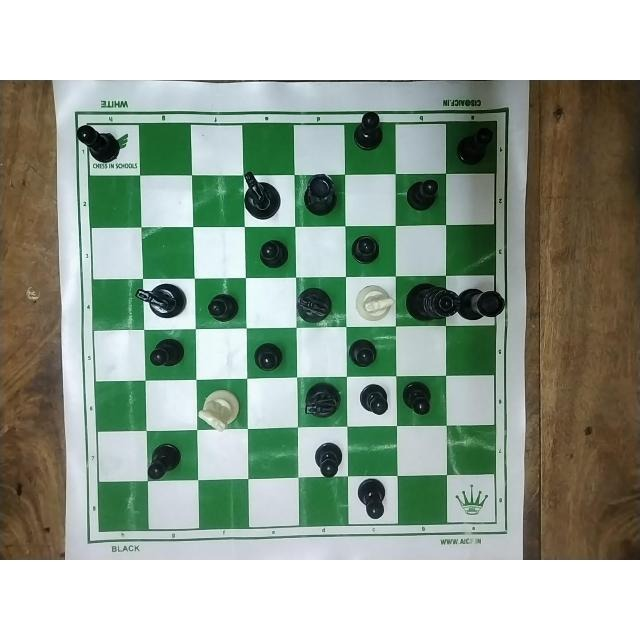black-knight: (237, 167, 281, 220), (136, 279, 188, 320), (295, 276, 332, 324), (302, 377, 346, 417)
black-pawn: (75, 121, 127, 167), (450, 122, 495, 170), (403, 172, 443, 215), (144, 334, 191, 370), (350, 109, 385, 153), (202, 285, 241, 324), (357, 476, 391, 520), (400, 379, 436, 419), (147, 440, 182, 481), (313, 439, 345, 479), (358, 381, 390, 420), (254, 338, 288, 372), (348, 337, 381, 371), (352, 232, 383, 264), (260, 239, 290, 271)
black-queen: (406, 282, 460, 321)
black-rook: (301, 170, 340, 219), (459, 286, 506, 324)
white-knight: (196, 384, 247, 432), (349, 280, 396, 324)
